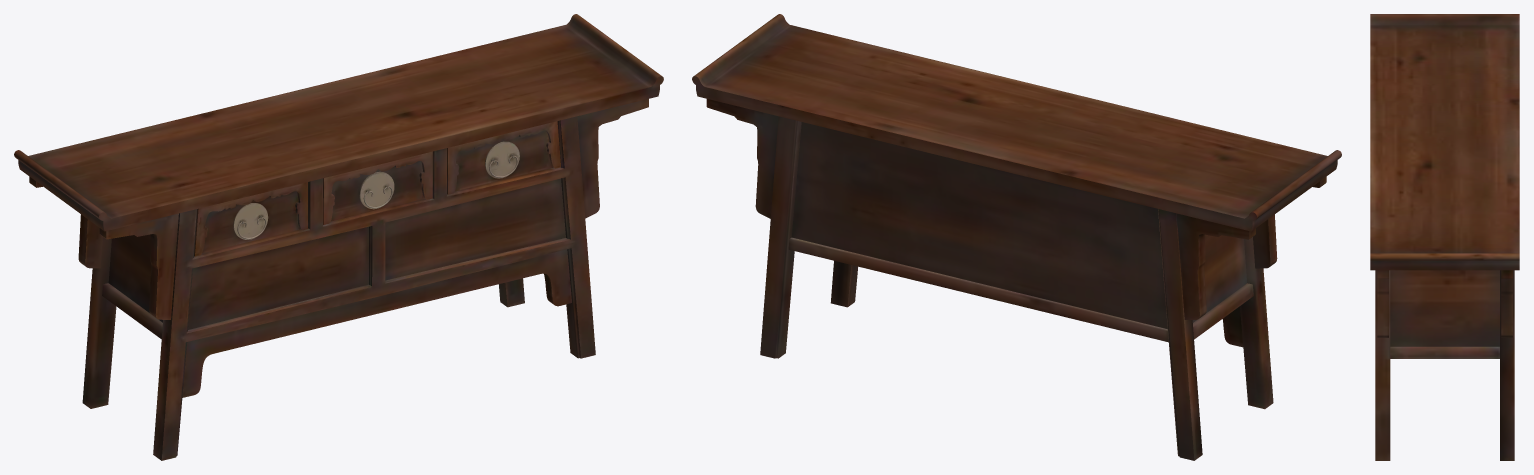
Rendered from chinese_commode.glb.
3 views of the same model, side by side, from view 1: azimuth 30°, elevation 25°; view 2: azimuth 150°, elevation 25°; view 3: azimuth 270°, elevation 25° (orthographic). The views are drawn at different scales.
Parts seen in each view (by area): view 1: chinese_commode; view 2: chinese_commode; view 3: chinese_commode.
Part boxes in pixels (box(x1,y1,x2,y2)): chinese_commode: box(14, 14, 663, 460); chinese_commode: box(692, 14, 1341, 460); chinese_commode: box(1370, 14, 1519, 460).
Size of the model in its own units: 4.49 by 2.02 by 1.17.
1 material, 1 textured.
